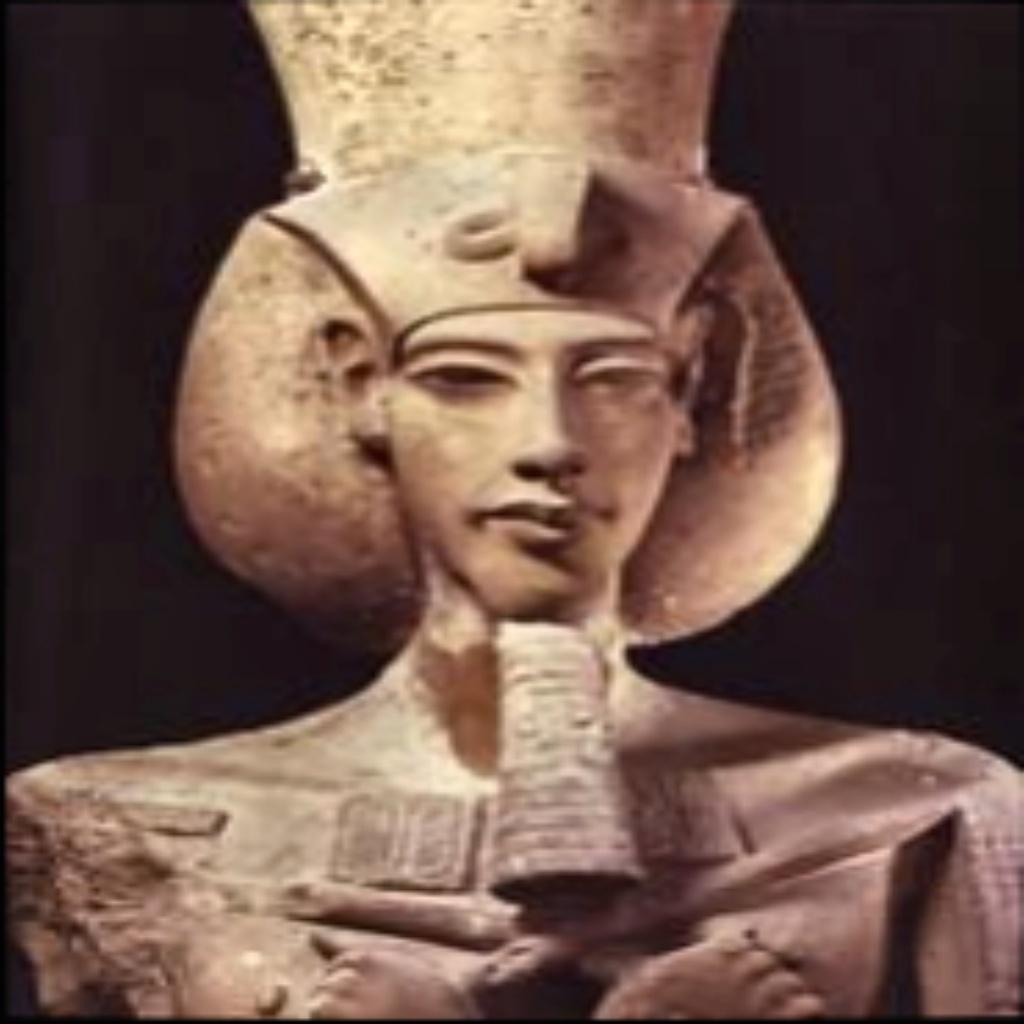Akhenaten: (11, 0, 1024, 1015)
